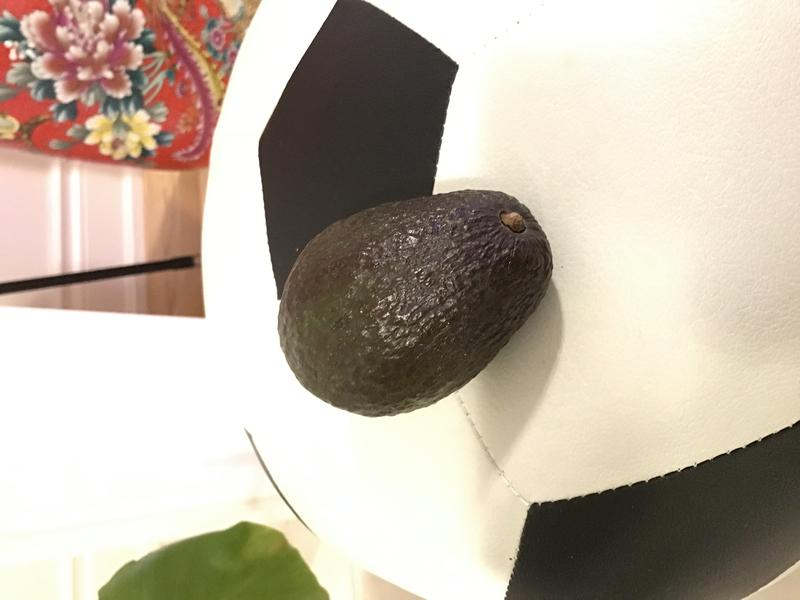avacado: (267, 180, 558, 425)
